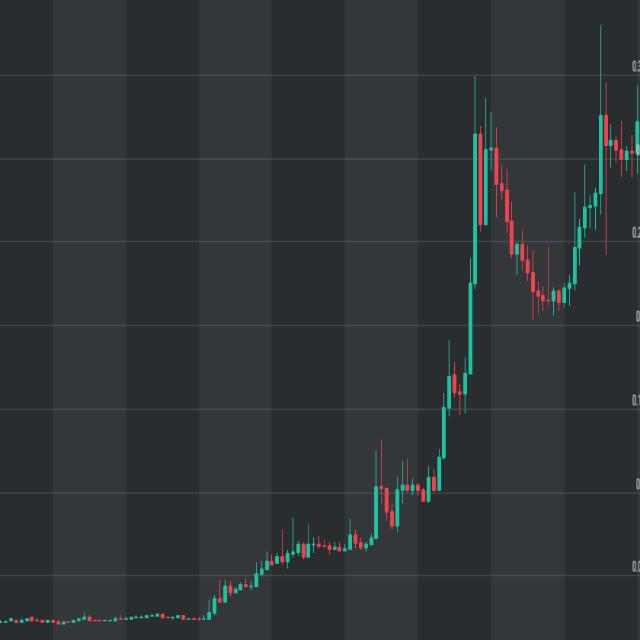Rising-Wedge: (454, 68, 640, 392)
